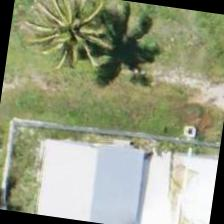Kelapa_Sawit: (5, 0, 100, 81)
